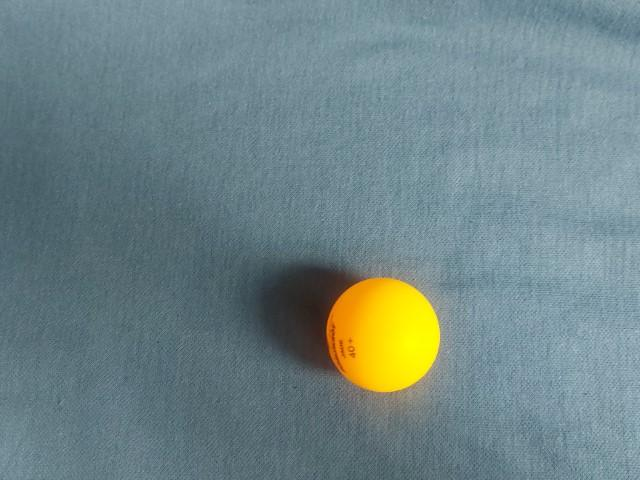oball: (190, 82, 322, 209)
